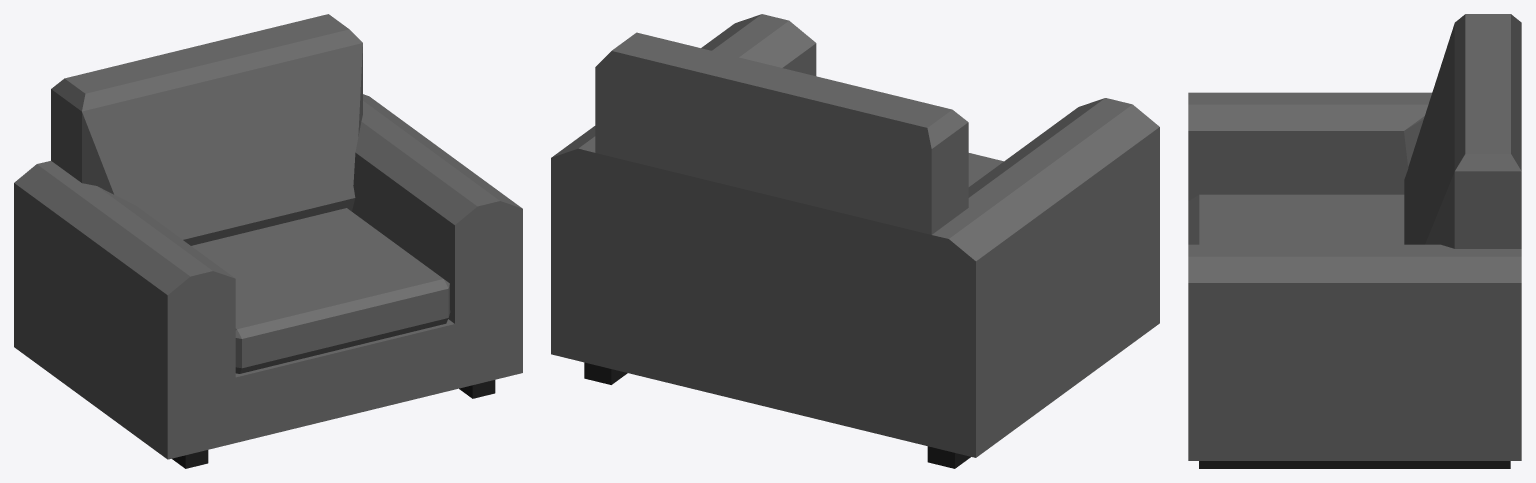
File: Sofa_Single.fbx
3 views of the same model, side by side, from view 1: azimuth 30°, elevation 25°; view 2: azimuth 150°, elevation 25°; view 3: azimuth 270°, elevation 25° (orthographic). The views are drawn at different scales.
Parts seen in each view (by area): view 1: Sofa; view 2: Sofa; view 3: Sofa.
Part boxes in pixels (x1,y1,x2,y2): Sofa: (14,14,522,468); Sofa: (551,14,1159,468); Sofa: (1188,14,1521,468).
Bounding box in the file's own units: 199 × 149 × 149.
